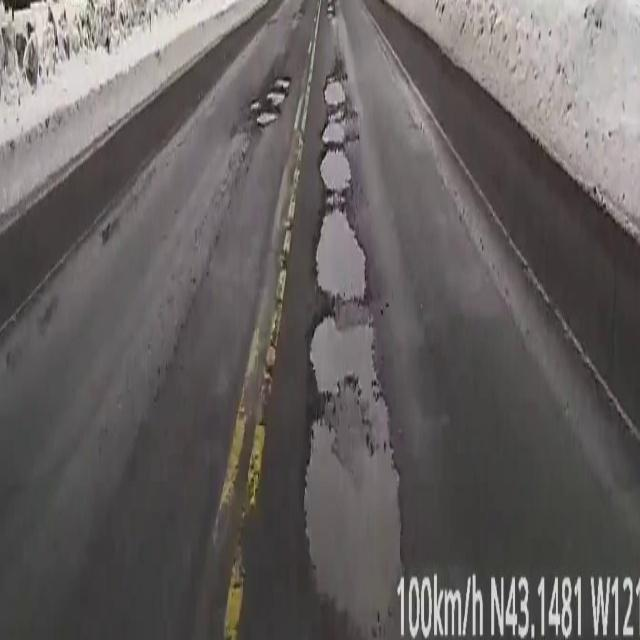pothole: (304, 69, 400, 503), (250, 78, 290, 124), (326, 0, 338, 25)
